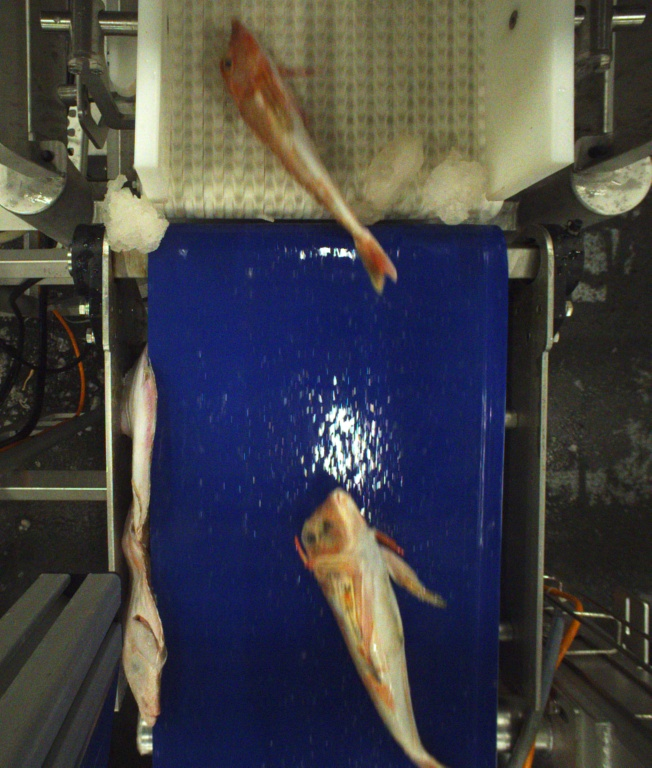GUU: (297, 488, 450, 767)
